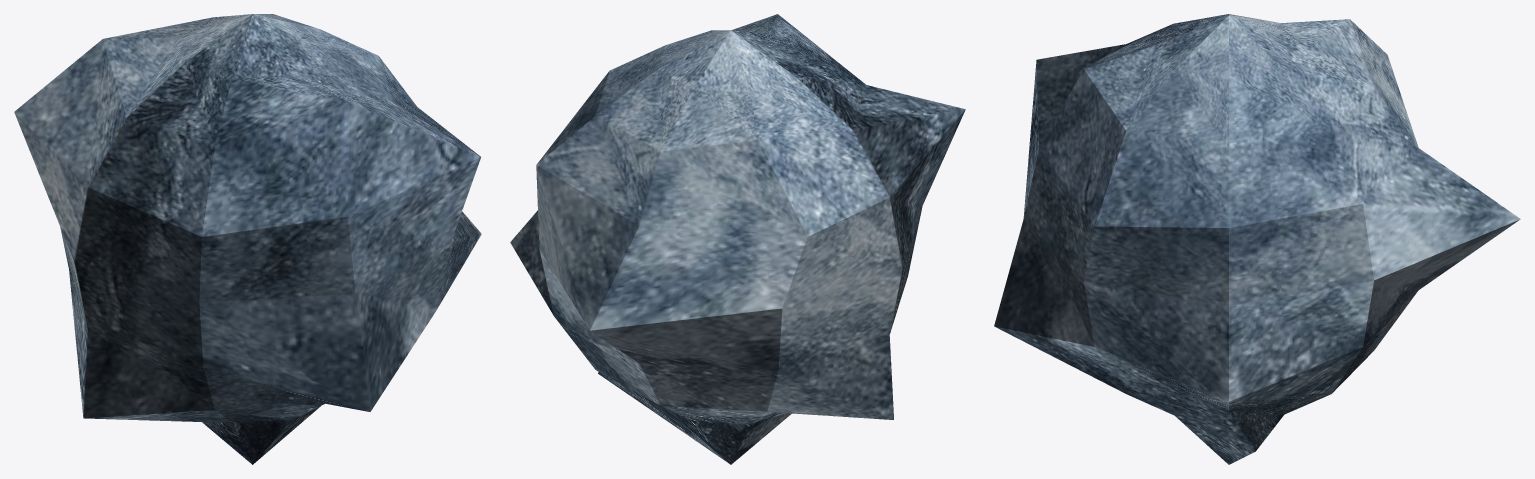
The model's file is iceBall02.fbx.
3 views of the same model, side by side, from view 1: azimuth 30°, elevation 25°; view 2: azimuth 150°, elevation 25°; view 3: azimuth 270°, elevation 25° (orthographic). The views are drawn at different scales.
Visible parts, largest first — view 1: Sphere; view 2: Sphere; view 3: Sphere.
Part boxes in pixels (<box>): Sphere: <box>14,14,481,464</box>; Sphere: <box>510,14,965,464</box>; Sphere: <box>994,14,1520,464</box>.
Bounding box in the file's own units: 229 × 242 × 257.
Materials: 1 (1 with a texture image).
